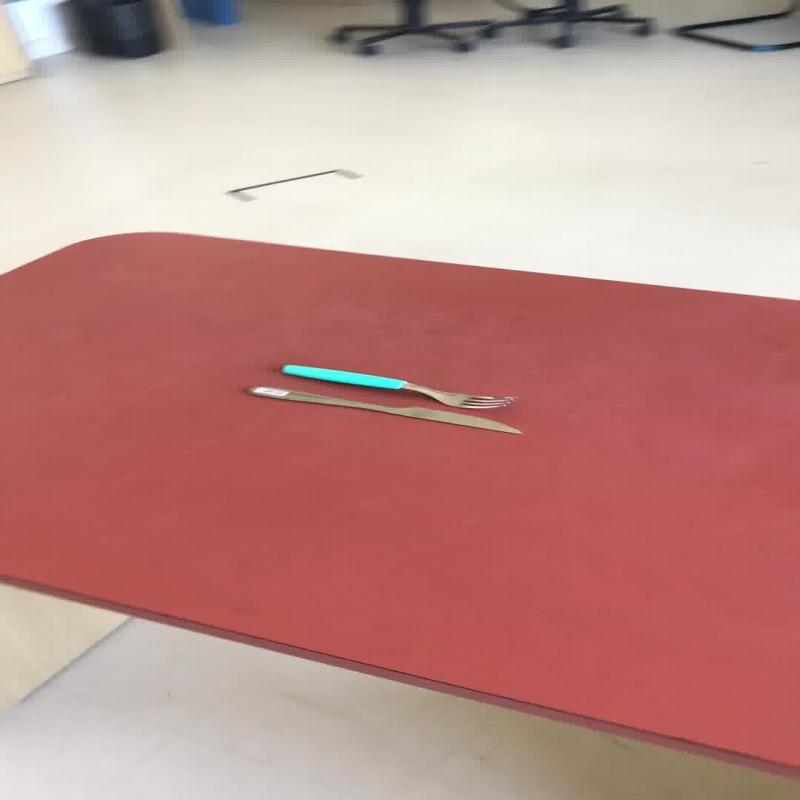fork: (278, 362, 518, 410)
knife: (244, 384, 522, 435)
